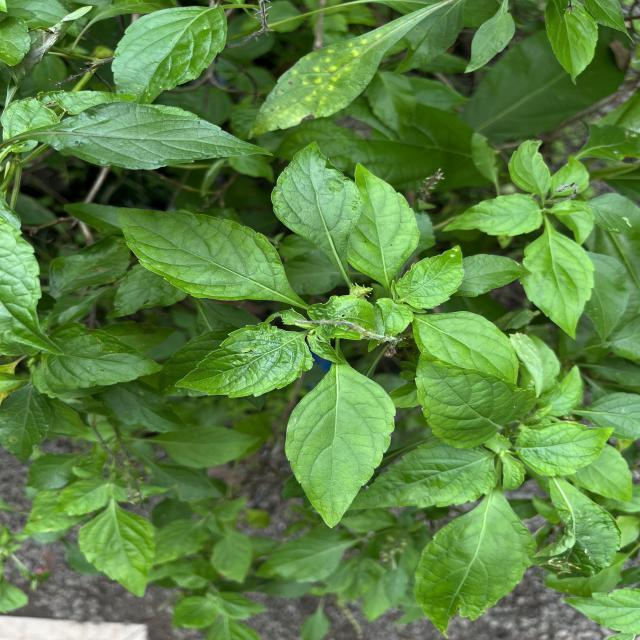Ocimum gratissimum: (114, 192, 306, 310), (18, 96, 278, 176), (282, 356, 399, 532), (410, 491, 542, 640), (269, 133, 370, 289), (410, 340, 542, 450), (107, 2, 230, 105), (172, 321, 318, 401), (519, 216, 598, 344), (348, 156, 422, 290), (516, 419, 618, 481), (392, 240, 468, 316)
